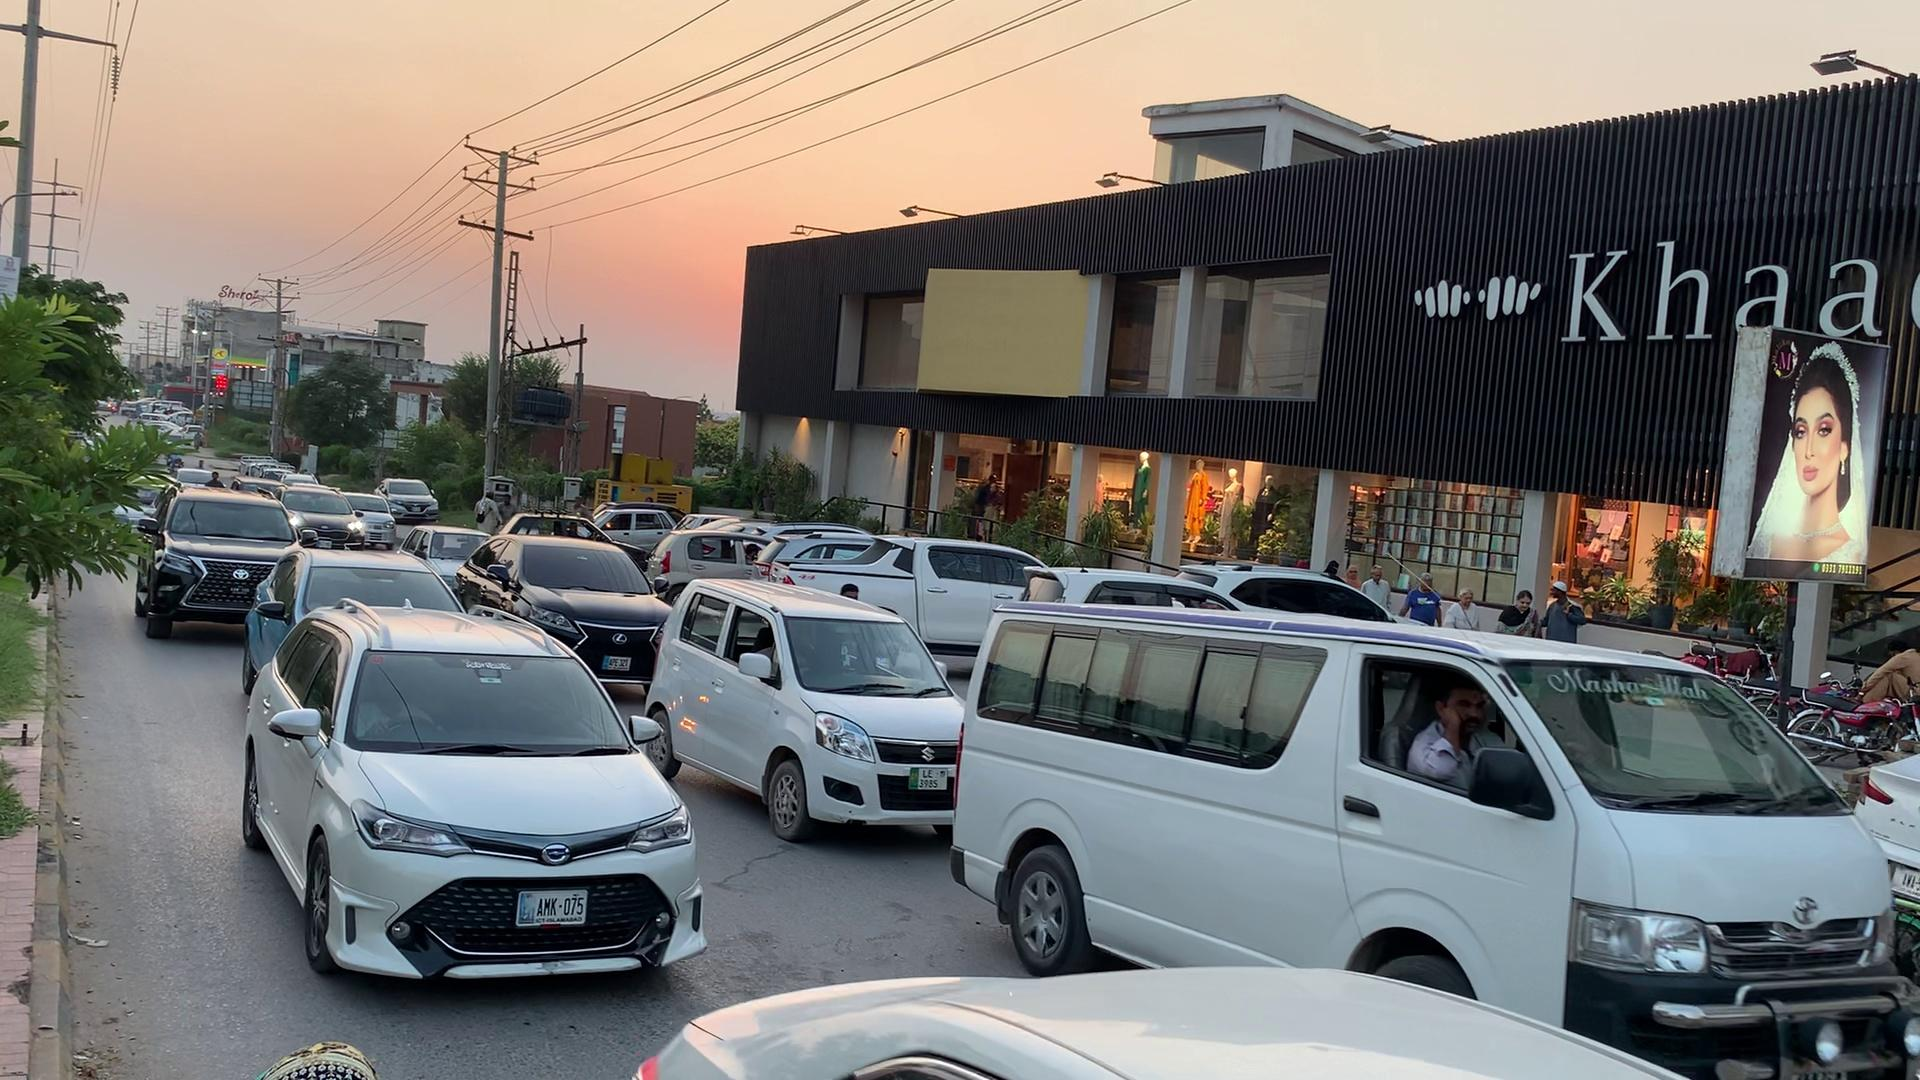windshield: (340, 633, 658, 764)
